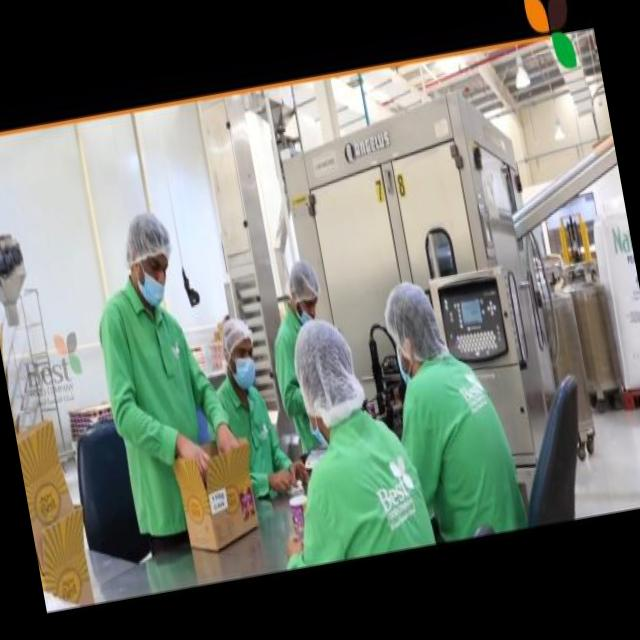hairnet: (288, 316, 366, 426), (379, 274, 447, 366), (119, 208, 174, 265), (282, 257, 322, 304), (217, 313, 253, 349)
